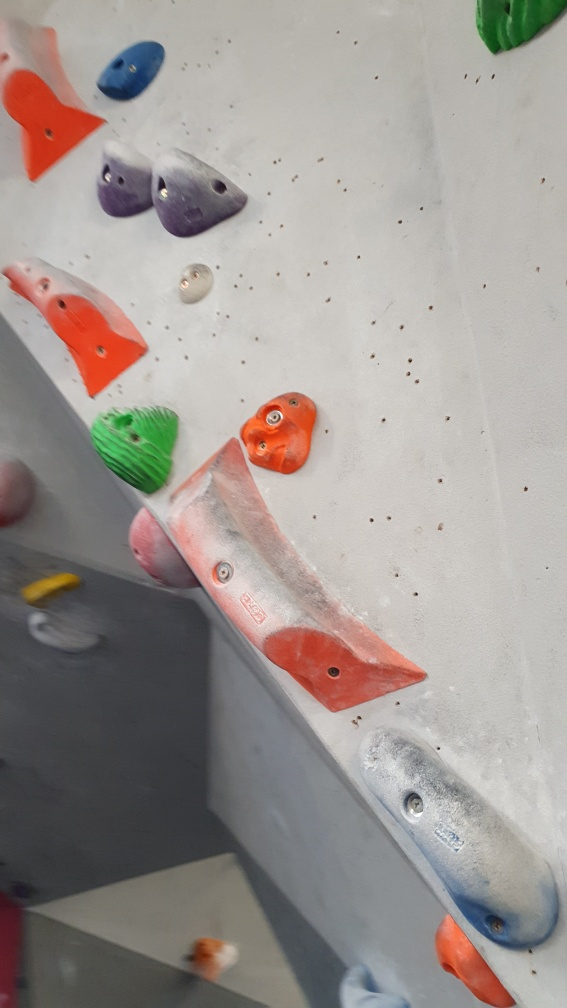Crimp: (91, 35, 171, 102)
Jug: (148, 147, 248, 239), (89, 400, 178, 498), (93, 135, 164, 219)
Pinch: (164, 439, 435, 716), (355, 724, 564, 949), (4, 254, 151, 396), (1, 18, 108, 191)
Sloper: (128, 499, 199, 597), (1, 453, 38, 526)
